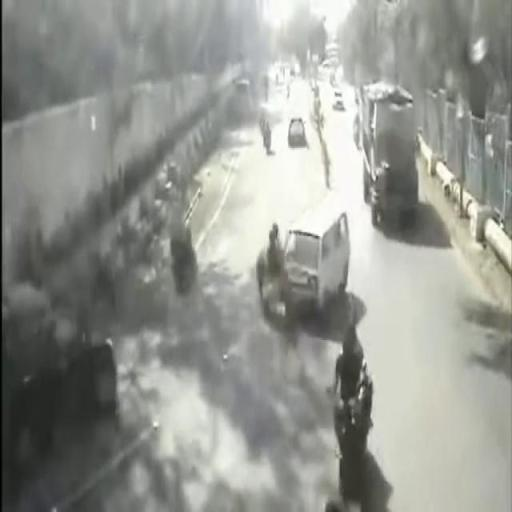小汽车: (360, 90, 421, 228)
小汽车撞自行车: (254, 211, 358, 322)
自行车: (330, 323, 383, 499)
